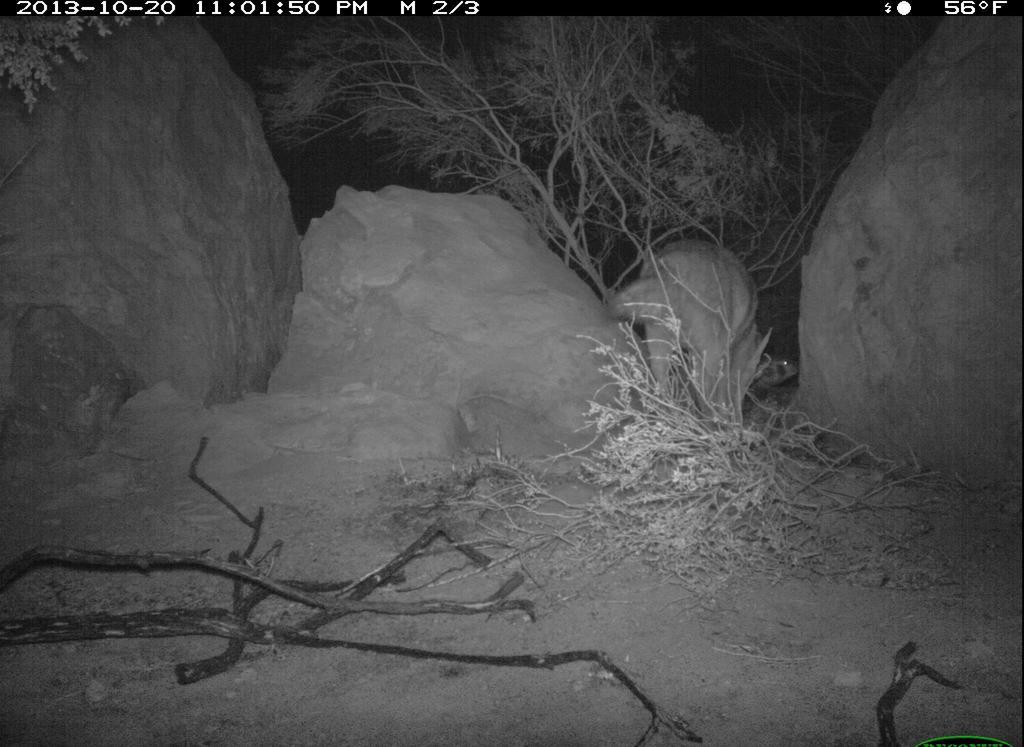badger: (751, 354, 803, 395)
coyote: (605, 236, 777, 432)
